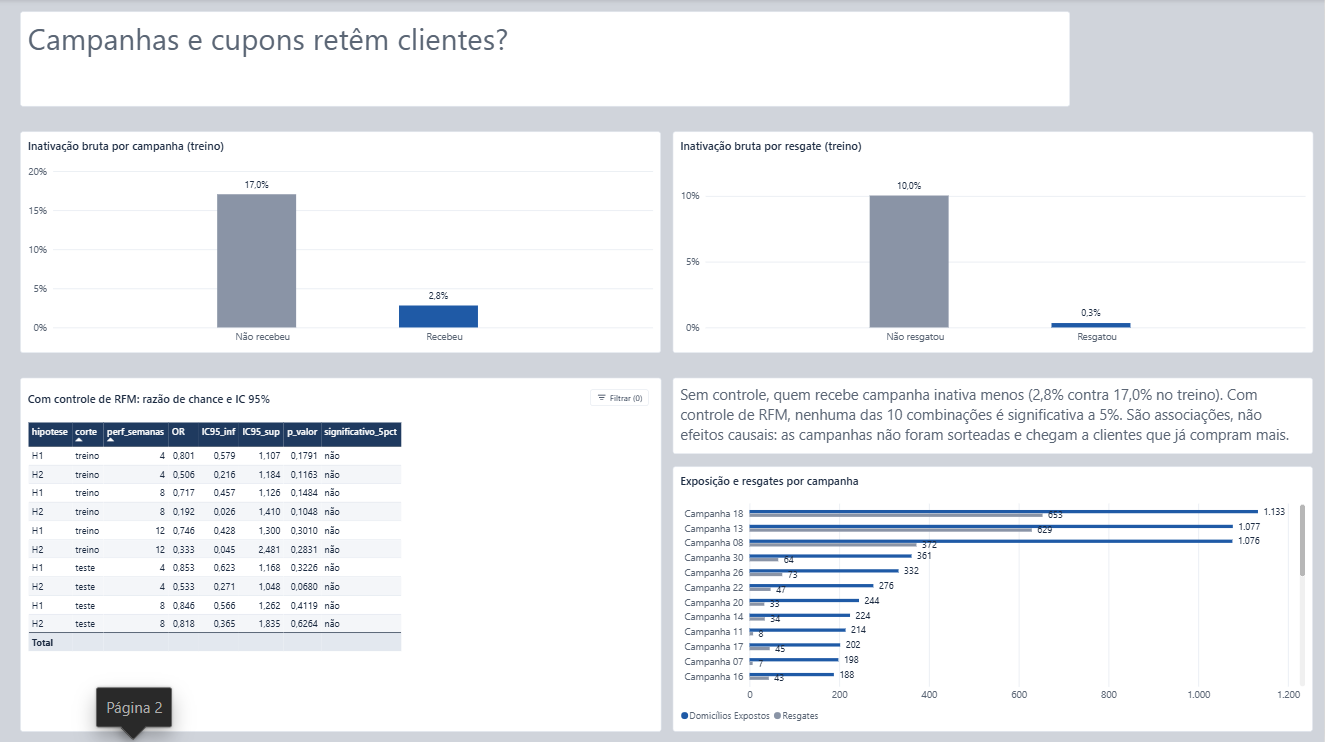

This screenshot's page, from the dashboard's own definition file:
{"tool":"powerbi","page":{"name":"Página 2","canvas":[1920,1080],"ordinal":1},"visuals":[{"type":"textbox","box":[30.8,18.1,1521.2,137.6],"z":0},{"type":"columnChart","title":"Inativação bruta por campanha (treino)","fields":{"Category":["fato_domicilio_corte.Campanha"],"Y":["_Medidas.Taxa de Inativação"]},"box":[30.8,191.8,928.3,321.1],"z":1000},{"type":"columnChart","title":"Inativação bruta por resgate (treino)","fields":{"Category":["fato_domicilio_corte.Cupom"],"Y":["_Medidas.Taxa de Inativação"]},"box":[975.6,191.8,928.3,321.1],"z":2000},{"type":"tableEx","title":"Com controle de RFM: razão de chance e IC 95%","fields":{"Values":["resultado_hipoteses.hipotese","resultado_hipoteses.corte","resultado_hipoteses.perf_semanas","resultado_hipoteses.OR","resultado_hipoteses.IC95_inf","resultado_hipoteses.IC95_sup","resultado_hipoteses.p_valor","resultado_hipoteses.significativo_5pct"]},"box":[30.8,548.9,929,512.5],"z":3000},{"type":"textbox","box":[976.1,548.7,927.2,110.5],"z":4000},{"type":"clusteredBarChart","title":"Exposição e resgates por campanha","fields":{"Category":["dim_campanha.Campanha"],"Y":["_Medidas.Domicílios Expostos","_Medidas.Resgates"]},"box":[976.1,677.1,927.2,383.9],"z":5000}]}

Visuals, with their boxes on the page's 1920x1080 design canvas (x1, y1, x2, y2). These are canvas units, not pixel positions in the 1325x742 screenshot, which may show the page scaled, cropped or inside an application window:
textbox: 31:18:1552:156
"Inativação bruta por campanha (treino)" columnChart: 31:192:959:513
"Inativação bruta por resgate (treino)" columnChart: 976:192:1904:513
"Com controle de RFM: razão de chance e IC 95%" tableEx: 31:549:960:1061
textbox: 976:549:1903:659
"Exposição e resgates por campanha" clusteredBarChart: 976:677:1903:1061
